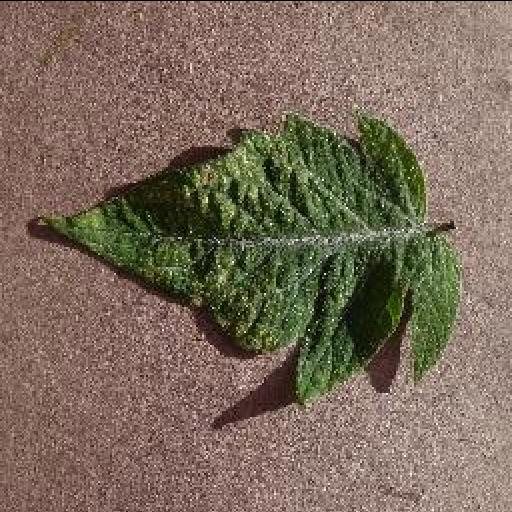disease_tomato: (48, 118, 456, 406)
